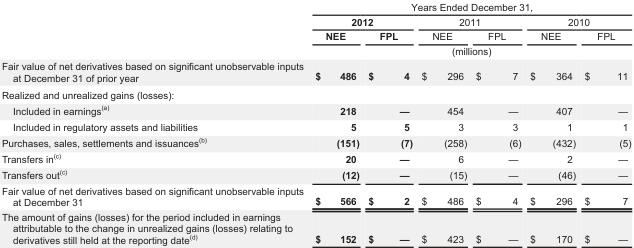table: (0, 0, 630, 245)
table column: (0, 0, 308, 245), (308, 0, 363, 245), (524, 0, 579, 245), (416, 0, 470, 245), (470, 0, 524, 245), (363, 0, 416, 245), (579, 0, 630, 245)
table column header: (0, 0, 630, 58)
table projected row header: (0, 85, 630, 101)
table row: (0, 209, 630, 245), (0, 58, 630, 85), (0, 182, 630, 209), (0, 101, 630, 118), (0, 165, 630, 182), (0, 85, 630, 101), (0, 133, 630, 149), (0, 149, 630, 165), (0, 13, 630, 28), (0, 28, 630, 43), (0, 43, 630, 58), (0, 118, 630, 133), (0, 0, 630, 13)
table spanning cell: (308, 43, 630, 58), (308, 0, 630, 13), (308, 13, 416, 28), (416, 13, 524, 28), (524, 13, 630, 28)
